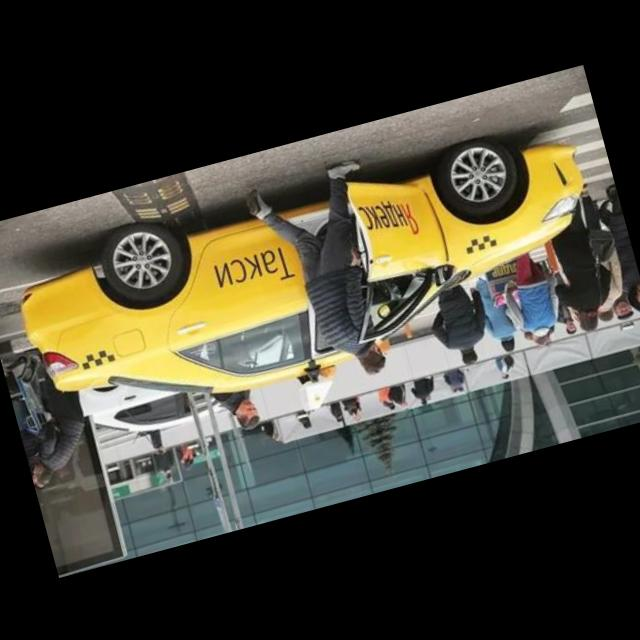taxi: (4, 107, 620, 462)
